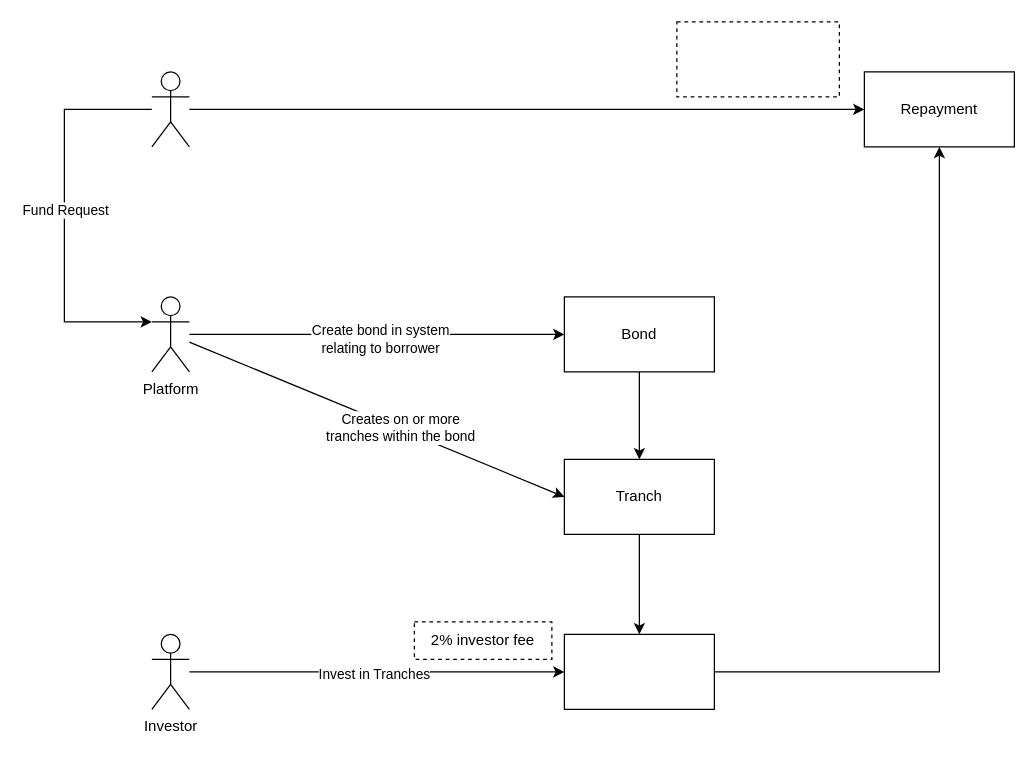
Image size: 1036x758. Some labels were removed from this diagram. The box of each missing label's shape, as (x1, y1, x2, y2) in pixels:
Borrower: (151, 71, 189, 147)
Interest Fee 2% borrower fee: (676, 21, 839, 97)
Investment: (563, 633, 714, 709)
